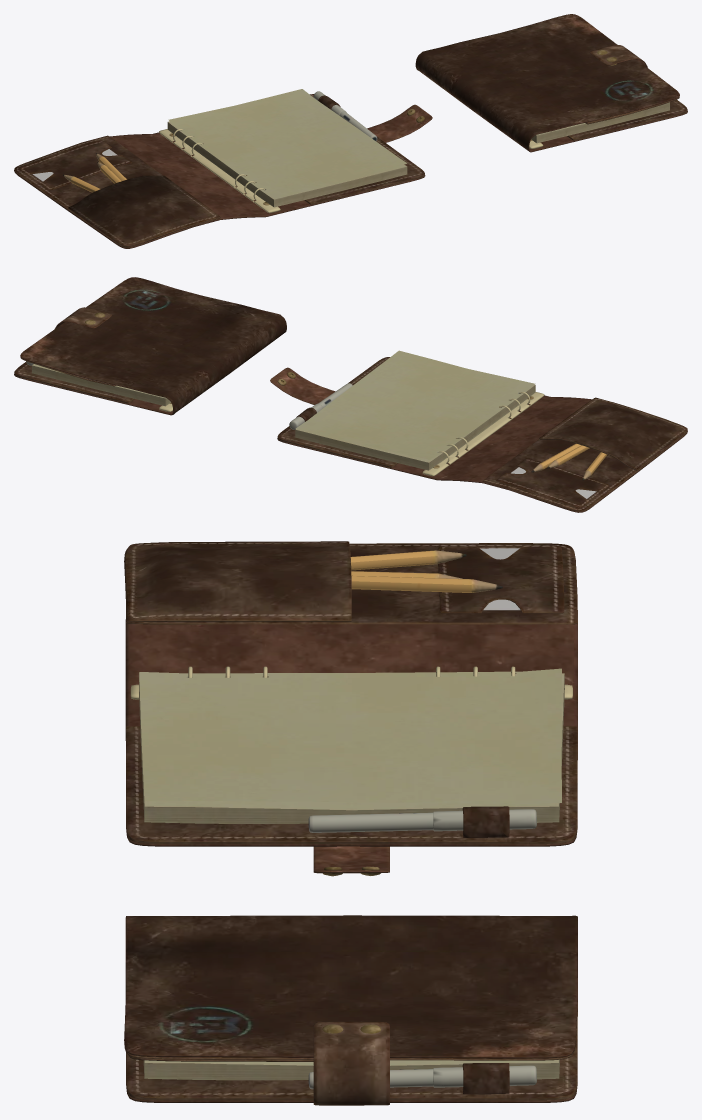
The model's file is binder_notebook.glb.
3 renders of one model, top to bottom at view 1: azimuth 30°, elevation 25°; view 2: azimuth 150°, elevation 25°; view 3: azimuth 270°, elevation 25°, orthographic. The views are drawn at different scales.
Parts seen in each view (by area): view 1: binder_notebook; view 2: binder_notebook; view 3: binder_notebook.
Boxes of the visible parts, x1,y1,x2,y2 form: binder_notebook: (14, 14, 687, 248); binder_notebook: (14, 277, 687, 512); binder_notebook: (124, 541, 577, 1105).
Bounding box in the file's own units: 0.584 × 0.0253 × 0.2.
Materials: 1 (1 with a texture image).
